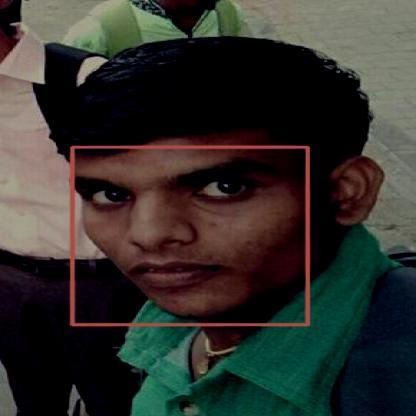without_mask: (72, 147, 307, 324)
